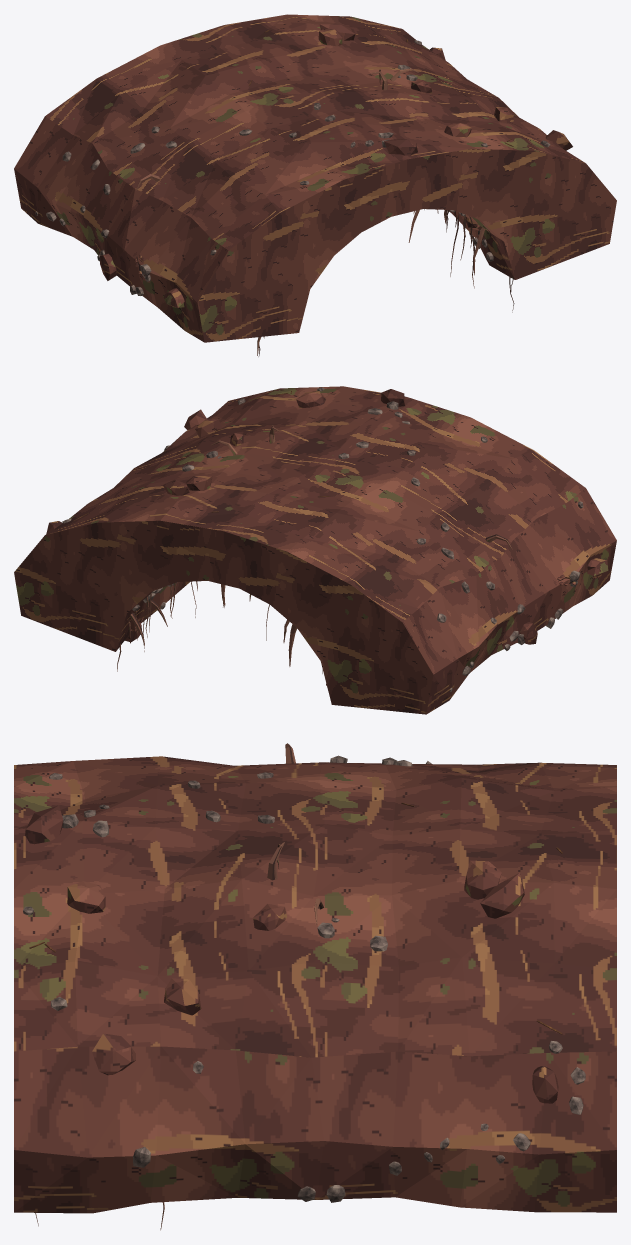
File: SM_AN03_CeilingVault.fbx
3 views of the same model, one above another, from view 1: azimuth 30°, elevation 25°; view 2: azimuth 150°, elevation 25°; view 3: azimuth 270°, elevation 25° (orthographic). The views are drawn at different scales.
Parts seen in each view (by area): view 1: AN03a_Earth, AN03a_Props, AN03a_Root; view 2: AN03a_Earth, AN03a_Props, AN03a_Root; view 3: AN03a_Earth, AN03a_Props, AN03a_Root.
Part boxes in pixels (left/top/right/bottom): AN03a_Earth: left=14, top=14, right=616, bottom=342; AN03a_Props: left=35, top=30, right=550, bottom=295; AN03a_Root: left=136, top=68, right=514, bottom=356; AN03a_Earth: left=14, top=386, right=616, bottom=714; AN03a_Props: left=62, top=387, right=583, bottom=692; AN03a_Root: left=117, top=425, right=512, bottom=685; AN03a_Earth: left=14, top=756, right=616, bottom=1213; AN03a_Props: left=23, top=755, right=585, bottom=1202; AN03a_Root: left=35, top=743, right=323, bottom=1230.
Bounding box in the file's own units: 5.51 × 2.5 × 4.
